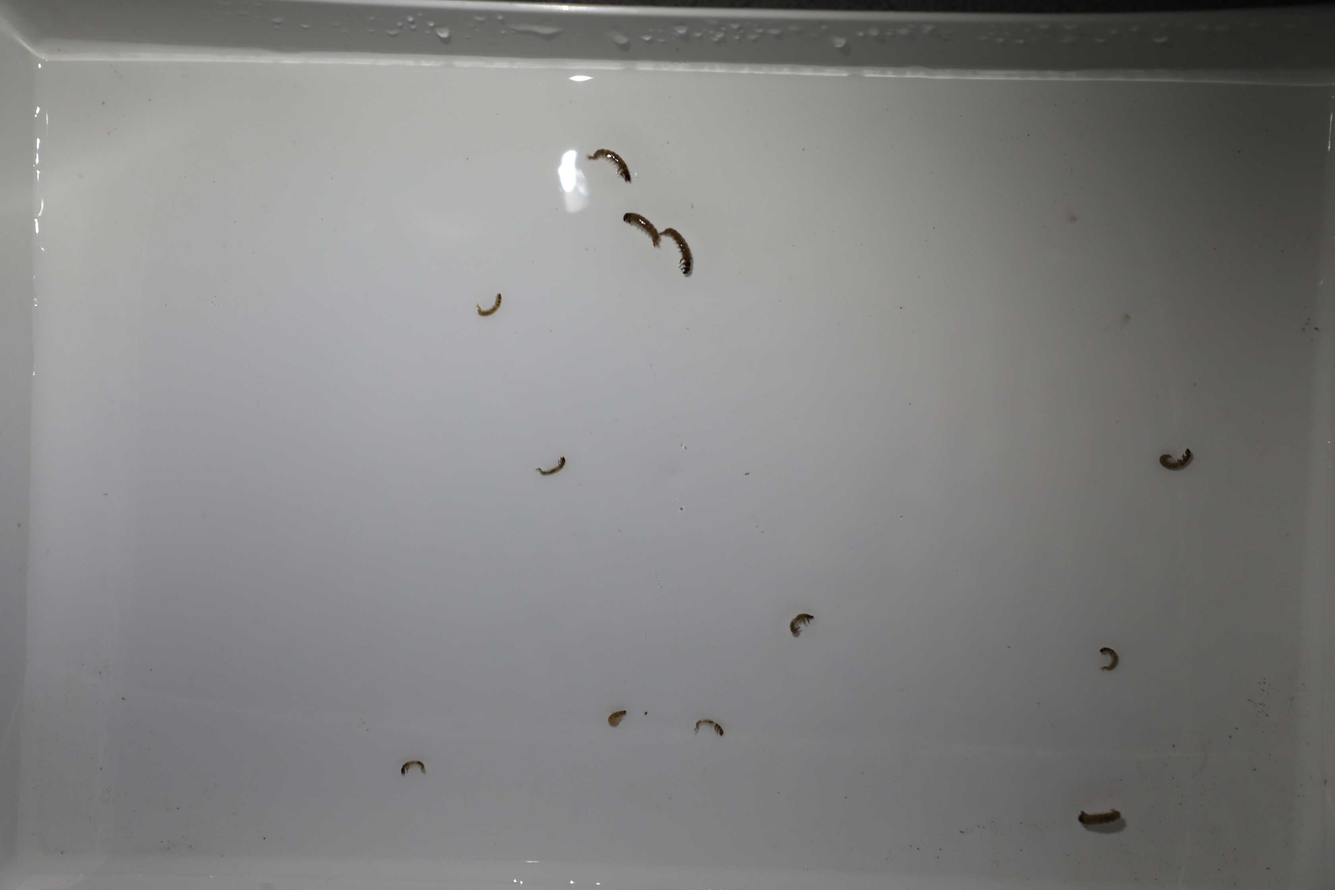Cadisfly: (581, 139, 632, 185), (660, 225, 702, 279), (619, 208, 662, 251), (786, 603, 819, 642), (1073, 801, 1120, 827), (472, 289, 507, 322), (1093, 639, 1121, 679), (1157, 446, 1197, 474), (690, 713, 727, 741), (533, 451, 568, 479), (396, 755, 428, 779), (604, 708, 629, 730)
